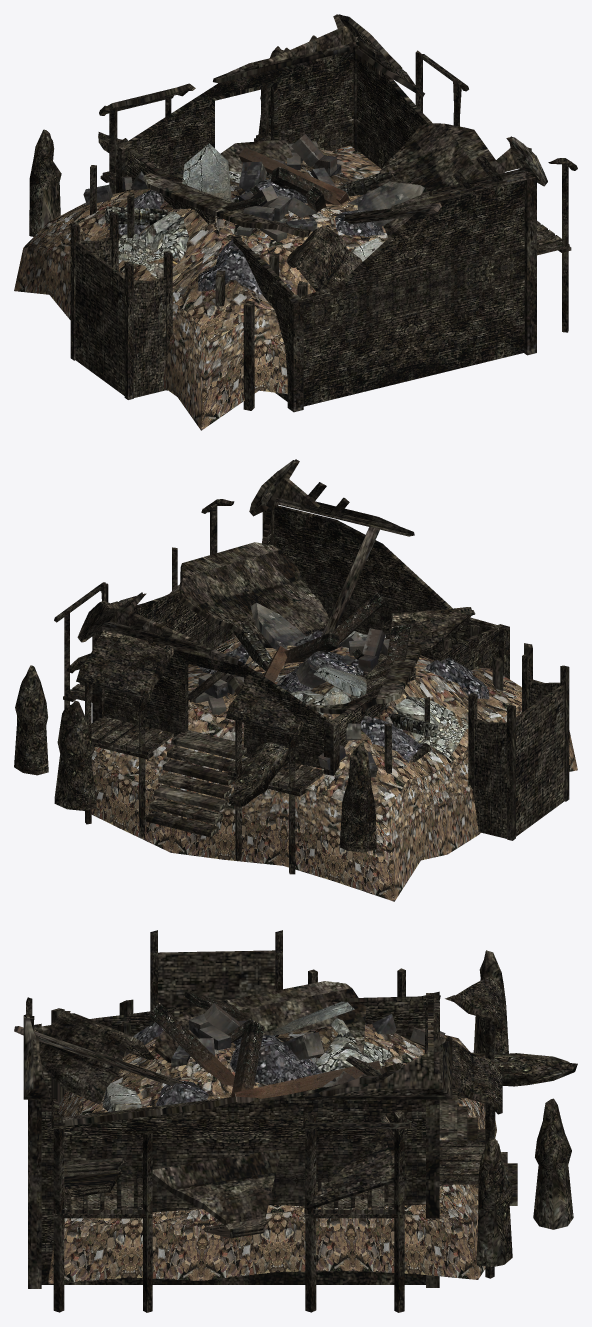
The model's file is gaul_town_center_rubble.glb.
3 renders of one model, top to bottom at view 1: azimuth 30°, elevation 25°; view 2: azimuth 150°, elevation 25°; view 3: azimuth 270°, elevation 25°, orthographic. The views are drawn at different scales.
Parts seen in each view (by area): view 1: gaul_town_center_rubble_part0, gaul_town_center_rubble_part1; view 2: gaul_town_center_rubble_part0, gaul_town_center_rubble_part1; view 3: gaul_town_center_rubble_part0, gaul_town_center_rubble_part1.
Part boxes in pixels (left/top/right/bottom): gaul_town_center_rubble_part0: left=29, top=14, right=577, bottom=412; gaul_town_center_rubble_part1: left=14, top=134, right=424, bottom=430; gaul_town_center_rubble_part0: left=14, top=459, right=569, bottom=874; gaul_town_center_rubble_part1: left=91, top=592, right=577, bottom=901; gaul_town_center_rubble_part0: left=14, top=930, right=577, bottom=1312; gaul_town_center_rubble_part1: left=48, top=982, right=496, bottom=1284.
Bounding box in the file's own units: 6.2 × 3.23 × 6.16.
Materials: 2 (2 with a texture image).
